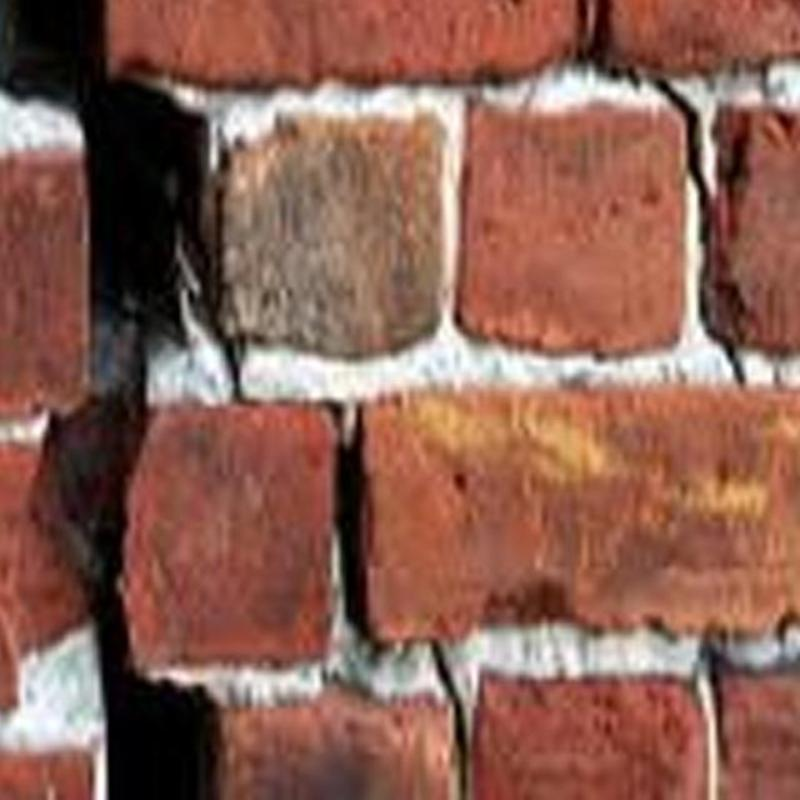crack: (0, 0, 205, 799), (590, 0, 746, 389), (336, 409, 370, 639), (428, 638, 469, 799), (205, 309, 255, 408), (699, 630, 730, 764)
